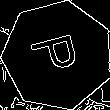P_E: (28, 31, 87, 80)
